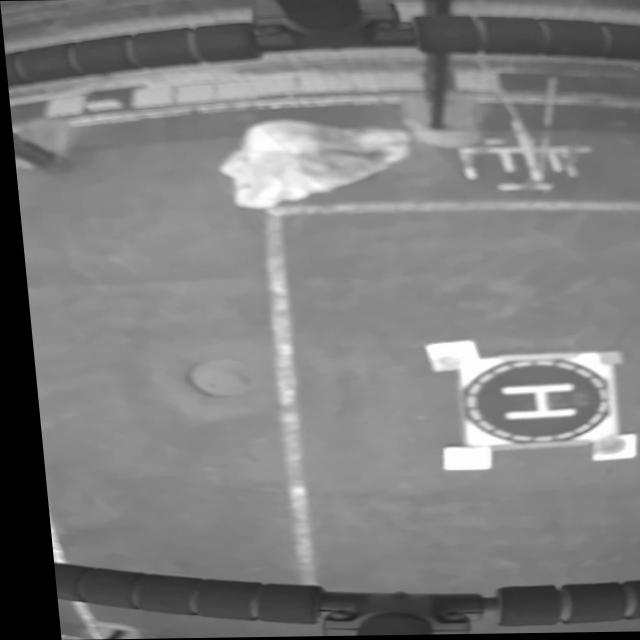Helipad: (487, 381, 573, 422)
